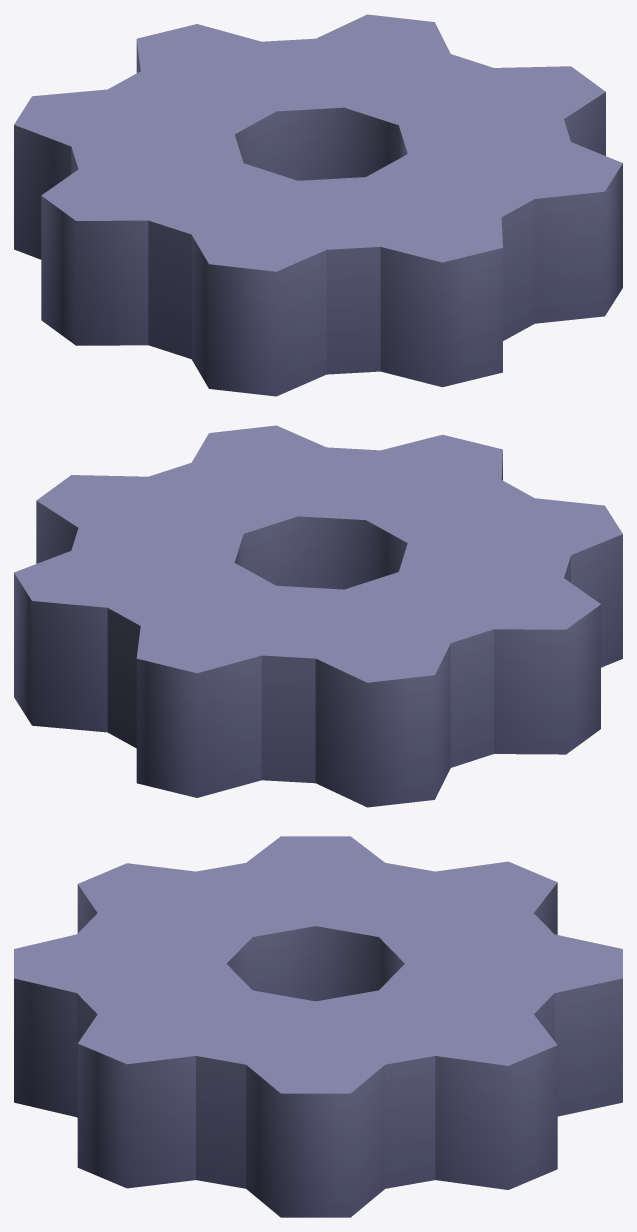
File: kenney-factory-cog-d.glb
3 renders of one model, top to bottom at view 1: azimuth 30°, elevation 25°; view 2: azimuth 150°, elevation 25°; view 3: azimuth 270°, elevation 25°, orthographic.
Parts seen in each view (by area): view 1: cog-d; view 2: cog-d; view 3: cog-d.
Part boxes in pixels (bbox=[...]): cog-d: bbox=[14, 14, 622, 396]; cog-d: bbox=[14, 425, 622, 807]; cog-d: bbox=[14, 836, 622, 1217].
Size of the model in its own units: 1 by 0.225 by 1.
1 material, 1 textured.
